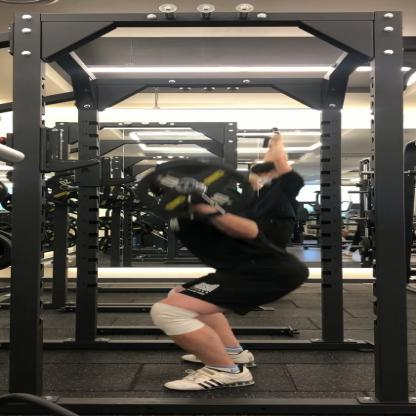Barbell: (113, 155, 271, 231)
